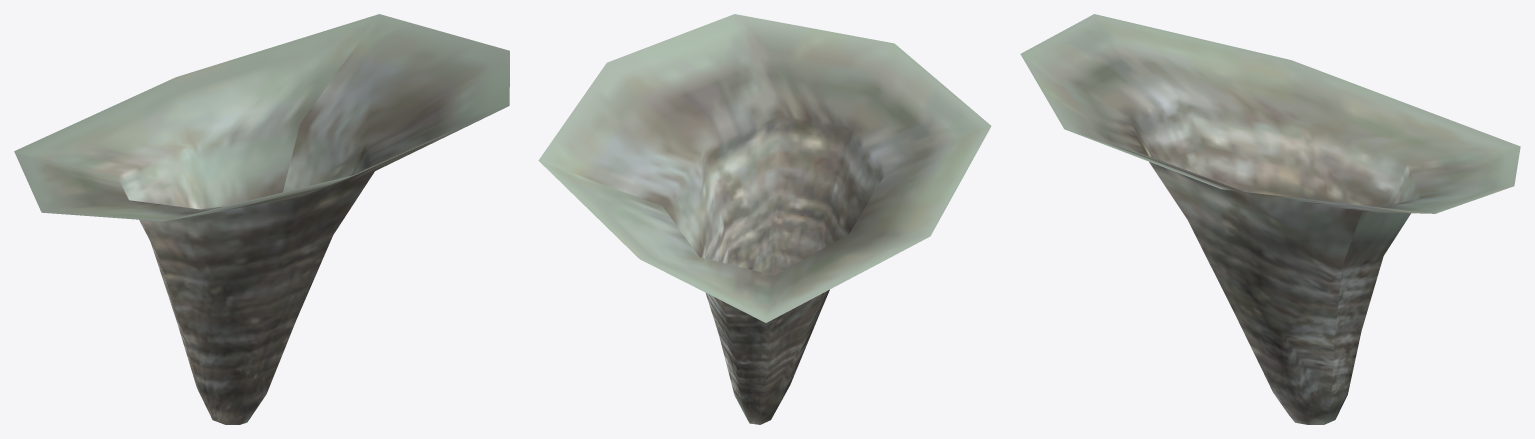
Rendered from TROLLHOLE02_PS-SECRETSTALAG01.fbx.
The picture shows the model from 3 angles, left to right: view 1: azimuth 30°, elevation 25°; view 2: azimuth 150°, elevation 25°; view 3: azimuth 270°, elevation 25°; orthographic projection. The views are drawn at different scales.
Visible parts, largest first — view 1: TROLLHOLE02_PS-SECRETSTALAG01; view 2: TROLLHOLE02_PS-SECRETSTALAG01; view 3: TROLLHOLE02_PS-SECRETSTALAG01.
Boxes of the visible parts, x1,y1,x2,y2 form: TROLLHOLE02_PS-SECRETSTALAG01: [14, 14, 509, 424]; TROLLHOLE02_PS-SECRETSTALAG01: [538, 14, 991, 424]; TROLLHOLE02_PS-SECRETSTALAG01: [1020, 14, 1520, 424].
Size of the model in its own units: 22368 by 18244 by 22417.
Materials: 1 (1 with a texture image).
